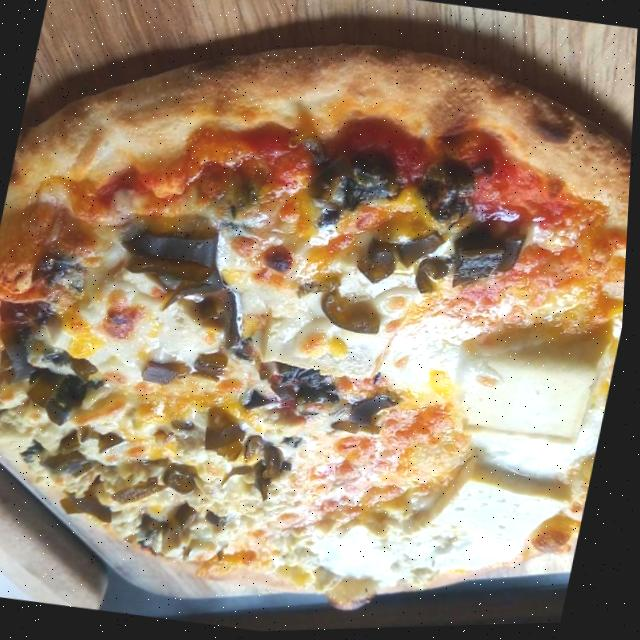pizza: (0, 0, 640, 640)
